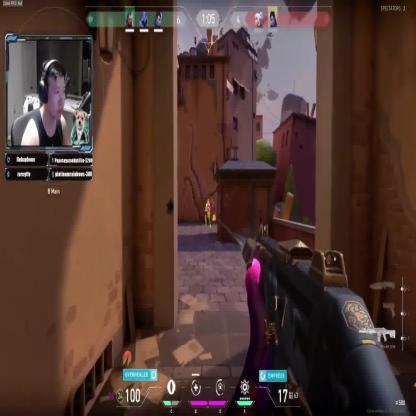enemy: (204, 198, 211, 228)
enemy_head: (206, 198, 210, 204)
